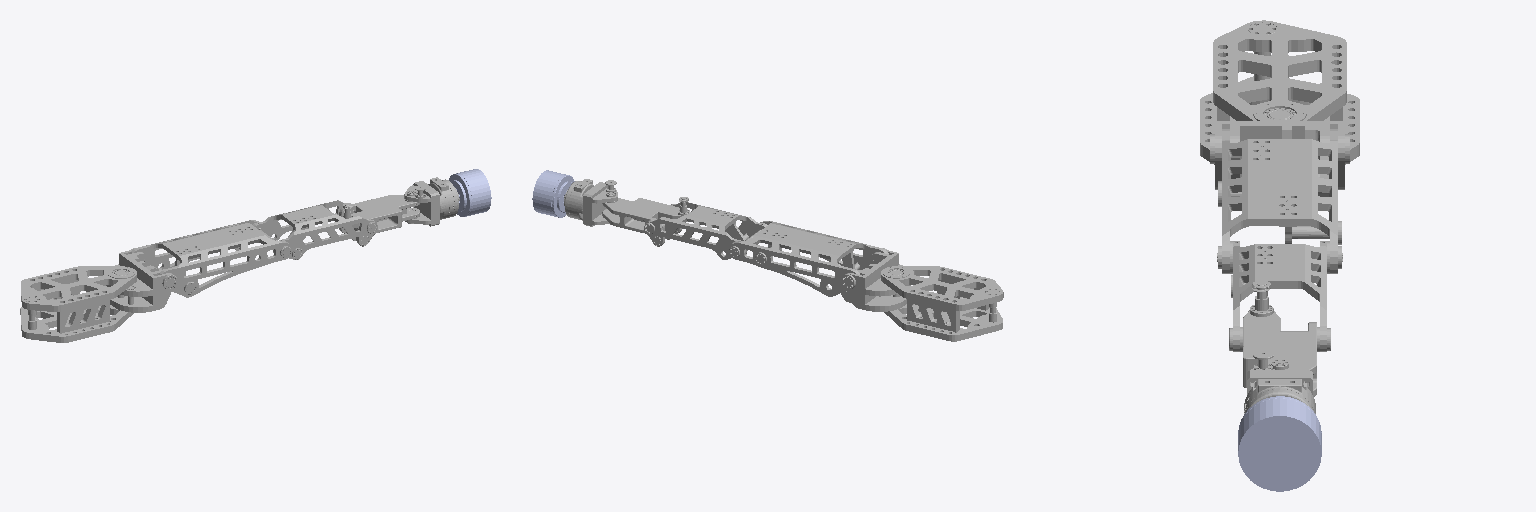
URDF robot description (SLAVE_ARM):
<robot
  name="SLAVE_ARM">
  <link
    name="BASE_LINK">
    <inertial>
      <origin
        xyz="0.2973 0.0488 0.1042"
        rpy="0 0 0" />
      <mass
        value="17.574" />
      <inertia
        ixx="0.41733"
        ixy="0.0168"
        ixz="-0.0017"
        iyy="0.76126"
        iyz="0"
        izz="0.9251" />
    </inertial>
    <visual>
      <origin
        xyz="0 0 0"
        rpy="0 0 0" />
      <geometry>
        <mesh
          filename="package://SLAVE_ARM/meshes/BASE_LINK.STL" />
      </geometry>
      <material
        name="">
        <color
          rgba="0.75294 0.75294 0.75294 1" />
      </material>
    </visual>
    <collision>
      <origin
        xyz="0 0 0"
        rpy="0 0 0" />
      <geometry>
        <mesh
          filename="package://SLAVE_ARM/meshes/BASE_LINK.STL" />
      </geometry>
    </collision>
  </link>
  <link
    name="LINK1">
    <inertial>
      <origin
        xyz="0.1104 0.0137 0.0189"
        rpy="0 0 0" />
      <mass
        value="10.337" />
      <inertia
        ixx="0.1694"
        ixy="0.015"
        ixz="0.0093"
        iyy="0.10174"
        iyz="-0.0021"
        izz="0.2048" />
    </inertial>
    <visual>
      <origin
        xyz="0 0 0"
        rpy="0 0 0" />
      <geometry>
        <mesh
          filename="package://SLAVE_ARM/meshes/LINK1.STL" />
      </geometry>
      <material
        name="">
        <color
          rgba="0.75294 0.75294 0.75294 1" />
      </material>
    </visual>
    <collision>
      <origin
        xyz="0 0 0"
        rpy="0 0 0" />
      <geometry>
        <mesh
          filename="package://SLAVE_ARM/meshes/LINK1.STL" />
      </geometry>
    </collision>
  </link>
  <joint
    name="LINK1_JOINT"
    type="continuous">
    <origin
      xyz="0.608 0.052 0.111"
      rpy="0 0 0" />
    <parent
      link="BASE_LINK" />
    <child
      link="LINK1" />
    <axis
      xyz="0 0 1" />
  </joint>
  <link
    name="LINK2">
    <inertial>
      <origin
        xyz="0.387 -0.0012 0.0217"
        rpy="0 0 0" />
      <mass
        value="9.5413" />
      <inertia
        ixx="0.1864"
        ixy="0.0162"
        ixz="0.0236"
        iyy="0.5195"
        iyz="0.0025"
        izz="0.6443" />
    </inertial>
    <visual>
      <origin
        xyz="0 0 0"
        rpy="0 0 0" />
      <geometry>
        <mesh
          filename="package://SLAVE_ARM/meshes/LINK2.STL" />
      </geometry>
      <material
        name="">
        <color
          rgba="0.75294 0.75294 0.75294 1" />
      </material>
    </visual>
    <collision>
      <origin
        xyz="0 0 0"
        rpy="0 0 0" />
      <geometry>
        <mesh
          filename="package://SLAVE_ARM/meshes/LINK2.STL" />
      </geometry>
    </collision>
  </link>
  <joint
    name="LINK2_JOINT"
    type="continuous">
    <origin
      xyz="0.2 0 0.09"
      rpy="0 0 0" />
    <parent
      link="LINK1" />
    <child
      link="LINK2" />
    <axis
      xyz="0 1 0" />
  </joint>
  <link
    name="LINK3">
    <inertial>
      <origin
        xyz="0.25161 -0.0058 0.0306"
        rpy="0 0 0" />
      <mass
        value="4.6229" />
      <inertia
        ixx="0.064842"
        ixy="0.0032"
        ixz="0.0043"
        iyy="0.1375"
        iyz="0.0013"
        izz="0.1805" />
    </inertial>
    <visual>
      <origin
        xyz="0 0 0"
        rpy="0 0 0" />
      <geometry>
        <mesh
          filename="package://SLAVE_ARM/meshes/LINK3.STL" />
      </geometry>
      <material
        name="">
        <color
          rgba="0.75294 0.75294 0.75294 1" />
      </material>
    </visual>
    <collision>
      <origin
        xyz="0 0 0"
        rpy="0 0 0" />
      <geometry>
        <mesh
          filename="package://SLAVE_ARM/meshes/LINK3.STL" />
      </geometry>
    </collision>
  </link>
  <joint
    name="LINK3_JOINT"
    type="continuous">
    <origin
      xyz="0.765 0 0"
      rpy="0 0 0" />
    <parent
      link="LINK2" />
    <child
      link="LINK3" />
    <axis
      xyz="0 1 0" />
  </joint>
  <link
    name="LINK4">
    <inertial>
      <origin
        xyz="0.0963 -0.006 -0.0134"
        rpy="0 0 0" />
      <mass
        value="6.0768" />
      <inertia
        ixx="0.0329"
        ixy="0.0125"
        ixz="0.0009"
        iyy="0.1067"
        iyz="-0.0011"
        izz="0.1194" />
    </inertial>
    <visual>
      <origin
        xyz="0 0 0"
        rpy="0 0 0" />
      <geometry>
        <mesh
          filename="package://SLAVE_ARM/meshes/LINK4.STL" />
      </geometry>
      <material
        name="">
        <color
          rgba="0.75294 0.75294 0.75294 1" />
      </material>
    </visual>
    <collision>
      <origin
        xyz="0 0 0"
        rpy="0 0 0" />
      <geometry>
        <mesh
          filename="package://SLAVE_ARM/meshes/LINK4.STL" />
      </geometry>
    </collision>
  </link>
  <joint
    name="LINK4_JOINT"
    type="continuous">
    <origin
      xyz="0.582 0 0"
      rpy="0 0 0" />
    <parent
      link="LINK3" />
    <child
      link="LINK4" />
    <axis
      xyz="0 1 0" />
  </joint>
  <link
    name="LINK5">
    <inertial>
      <origin
        xyz="0.1513 0 0.0022"
        rpy="0 0 0" />
      <mass
        value="7.0927" />
      <inertia
        ixx="0.0446"
        ixy="0.0005"
        ixz="-0.0008"
        iyy="0.0597"
        iyz="-0.0004"
        izz="0.0571" />
    </inertial>
    <visual>
      <origin
        xyz="0 0 0"
        rpy="0 0 0" />
      <geometry>
        <mesh
          filename="package://SLAVE_ARM/meshes/LINK5.STL" />
      </geometry>
      <material
        name="">
        <color
          rgba="0.75294 0.75294 0.75294 1" />
      </material>
    </visual>
    <collision>
      <origin
        xyz="0 0 0"
        rpy="0 0 0" />
      <geometry>
        <mesh
          filename="package://SLAVE_ARM/meshes/LINK5.STL" />
      </geometry>
    </collision>
  </link>
  <joint
    name="LINK5_JOINT"
    type="continuous">
    <origin
      xyz="0.34 0 -0.01"
      rpy="0 0 0" />
    <parent
      link="LINK4" />
    <child
      link="LINK5" />
    <axis
      xyz="0 0 1" />
  </joint>
  <link
    name="LINK6">
    <inertial>
      <origin
        xyz="0.0824 0 0"
        rpy="0 0 0" />
      <mass
        value="7.1931" />
      <inertia
        ixx="0.0555"
        ixy="0"
        ixz="0"
        iyy="0.041"
        iyz="0"
        izz="0.041" />
    </inertial>
    <visual>
      <origin
        xyz="0 0 0"
        rpy="0 0 0" />
      <geometry>
        <mesh
          filename="package://SLAVE_ARM/meshes/LINK6.STL" />
      </geometry>
      <material
        name="">
        <color
          rgba="0.79216 0.81961 0.93333 1" />
      </material>
    </visual>
    <collision>
      <origin
        xyz="0 0 0"
        rpy="0 0 0" />
      <geometry>
        <mesh
          filename="package://SLAVE_ARM/meshes/LINK6.STL" />
      </geometry>
    </collision>
  </link>
  <joint
    name="LINK6_JOINT"
    type="continuous">
    <origin
      xyz="0.29162 0 0"
      rpy="0 0 0" />
    <parent
      link="LINK5" />
    <child
      link="LINK6" />
    <axis
      xyz="1 0 0" />
  </joint>
</robot>

--- Facts derived from the render (not from the file) ---
3 views of the same robot in one strip: view 1: azimuth 30°, elevation 25°; view 2: azimuth 150°, elevation 25°; view 3: azimuth 270°, elevation 25° (orthographic).
Robot: SLAVE_ARM — 7 links, 6 joints (6 continuous); root link BASE_LINK; default pose: every joint at zero.
Links seen in each view (by area): view 1: BASE_LINK, LINK2, LINK3, LINK1, LINK4, LINK5, LINK6; view 2: BASE_LINK, LINK2, LINK3, LINK1, LINK4, LINK5, LINK6; view 3: BASE_LINK, LINK2, LINK6, LINK3, LINK4, LINK1, LINK5.
Link boxes in pixels (left/top/right/bottom): BASE_LINK: left=20, top=266, right=136, bottom=342; LINK2: left=129, top=220, right=292, bottom=297; LINK3: left=253, top=200, right=377, bottom=259; LINK1: left=106, top=248, right=176, bottom=312; LINK4: left=339, top=195, right=419, bottom=246; LINK5: left=404, top=177, right=459, bottom=226; LINK6: left=449, top=169, right=491, bottom=216; BASE_LINK: left=881, top=266, right=1003, bottom=341; LINK2: left=728, top=221, right=888, bottom=296; LINK3: left=644, top=202, right=767, bottom=259; LINK1: left=841, top=248, right=910, bottom=311; LINK4: left=602, top=197, right=689, bottom=246; LINK5: left=564, top=179, right=617, bottom=226; LINK6: left=532, top=170, right=574, bottom=217; BASE_LINK: left=1200, top=20, right=1359, bottom=164; LINK2: left=1217, top=129, right=1342, bottom=273; LINK6: left=1238, top=396, right=1321, bottom=491; LINK3: left=1229, top=241, right=1330, bottom=351; LINK4: left=1240, top=280, right=1319, bottom=396; LINK1: left=1210, top=121, right=1349, bottom=196; LINK5: left=1244, top=349, right=1315, bottom=413.
Size in the robot's own frame: 3 by 0.48 by 0.336 metres.
7 mesh visuals loaded from 7 distinct referenced files (7 binary STL).